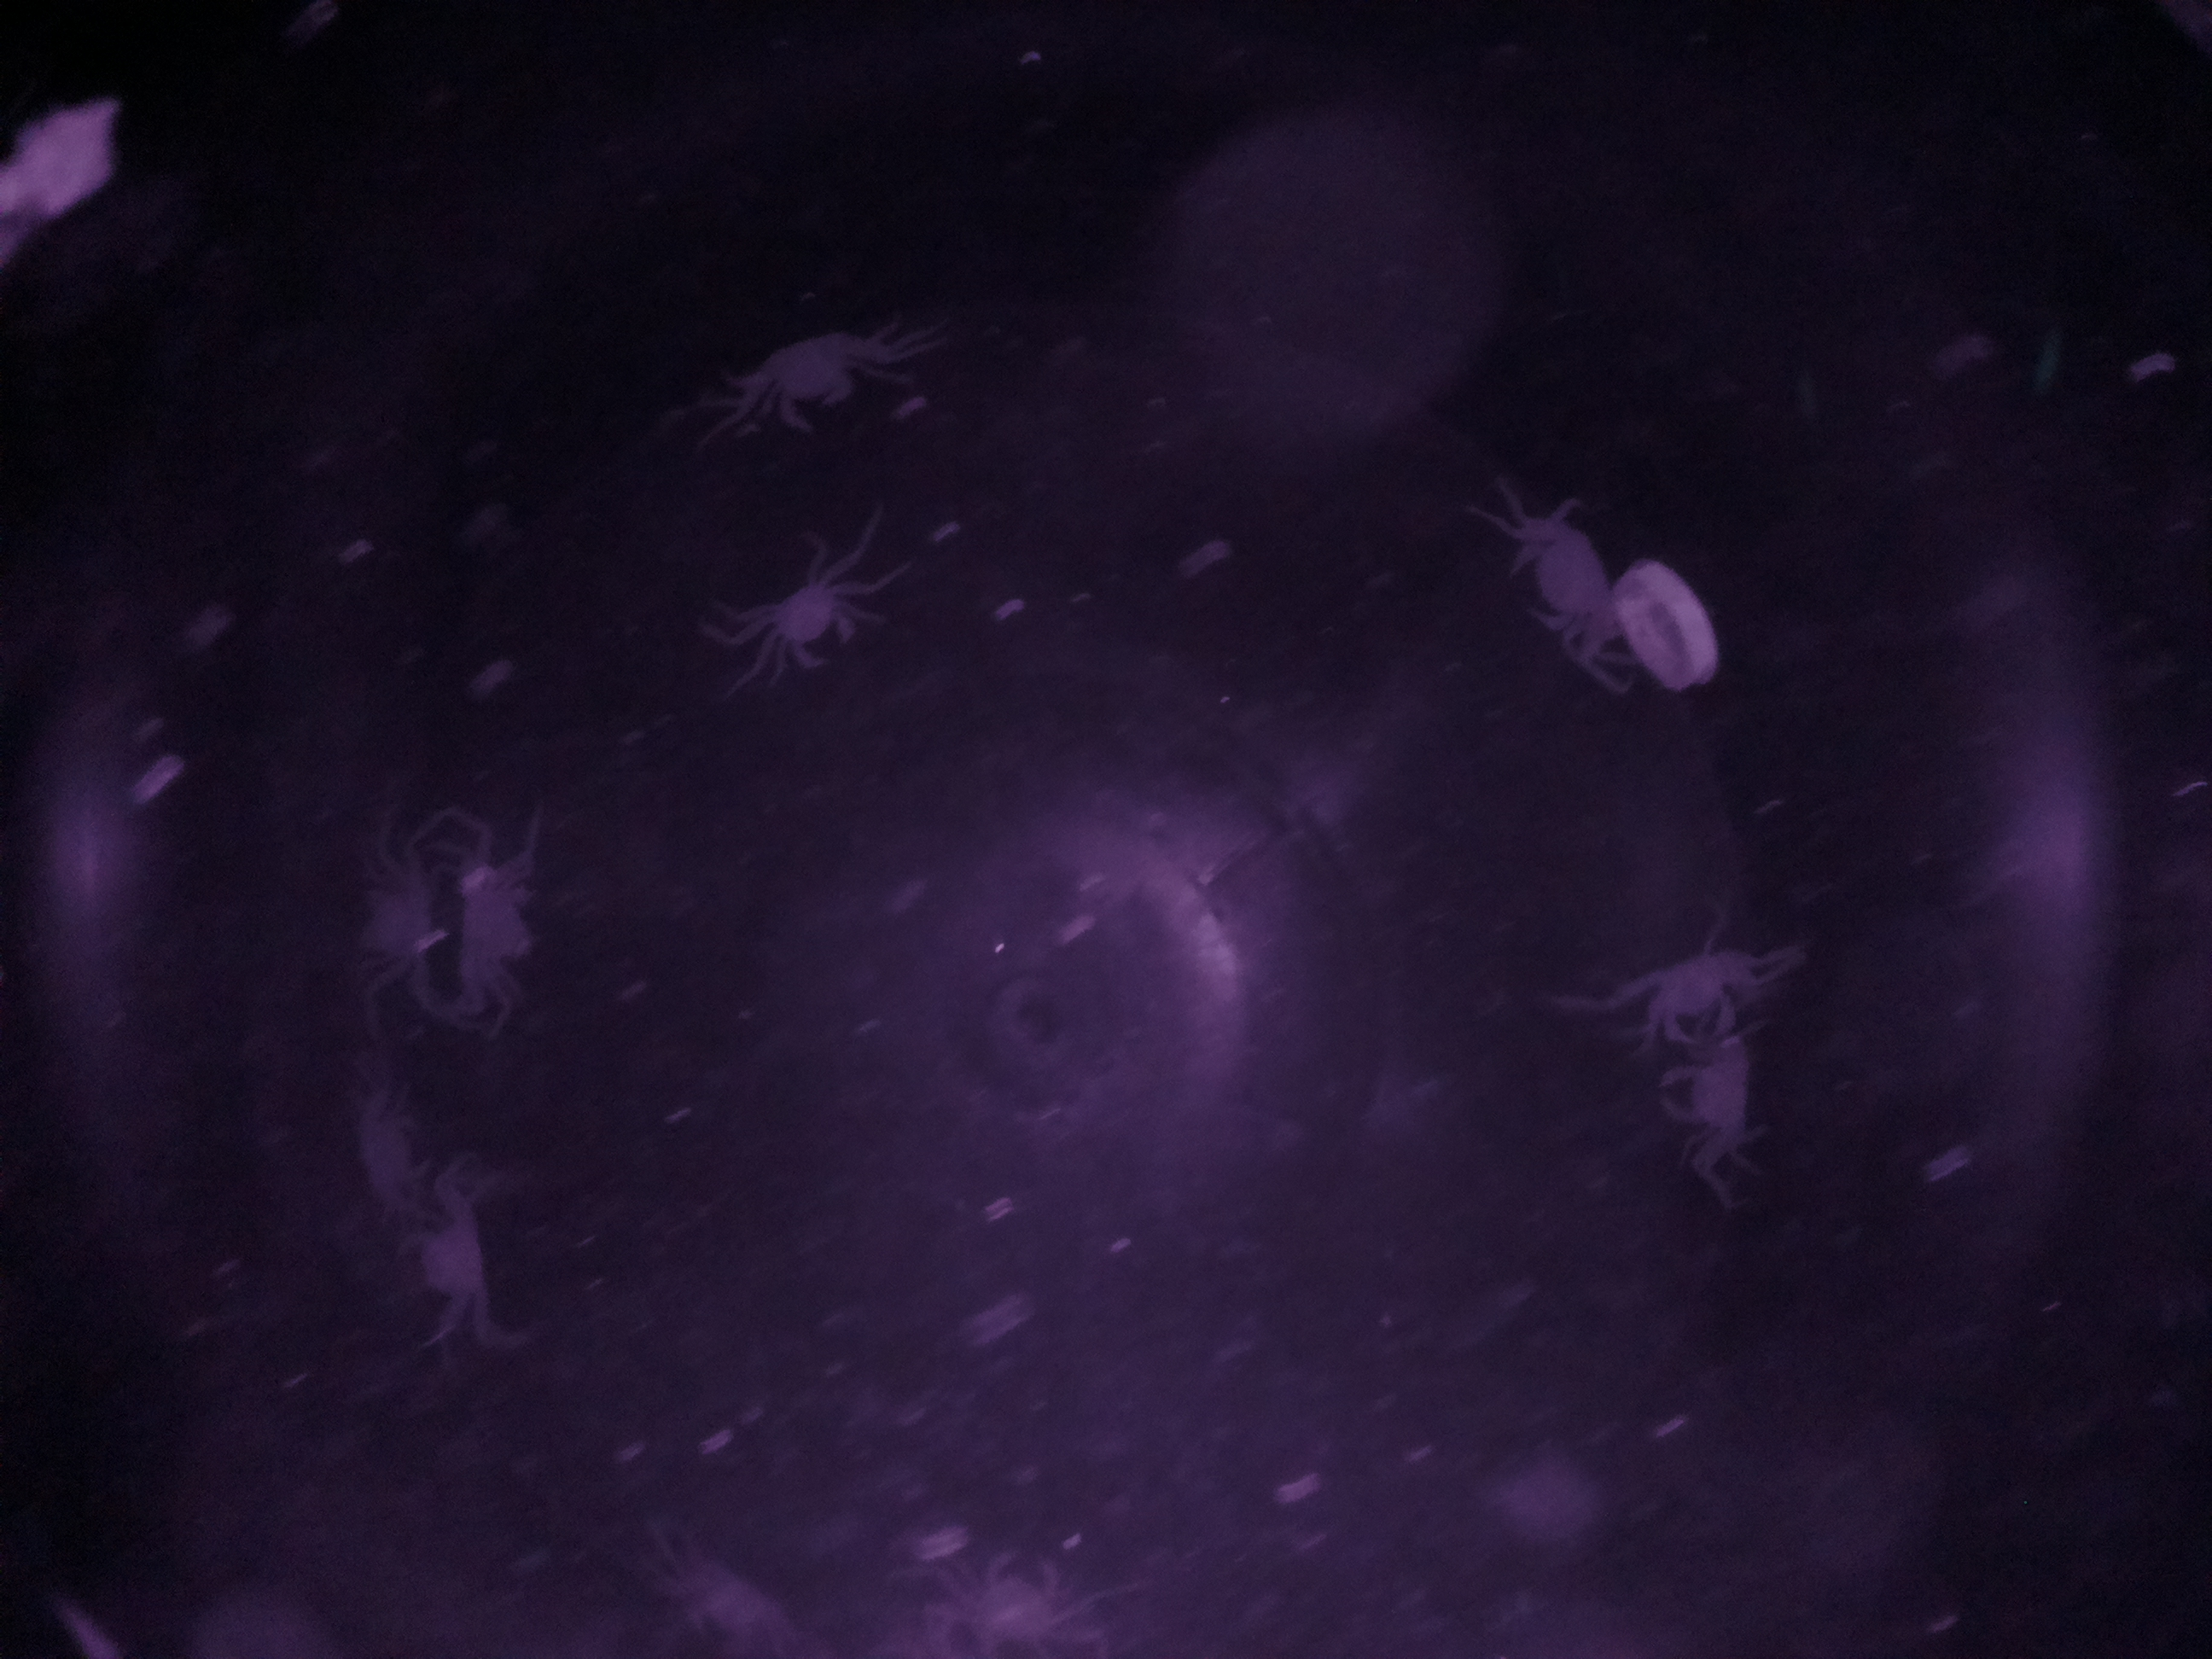Crab: (1489, 474, 1660, 666), (732, 293, 894, 464), (749, 544, 866, 688)
